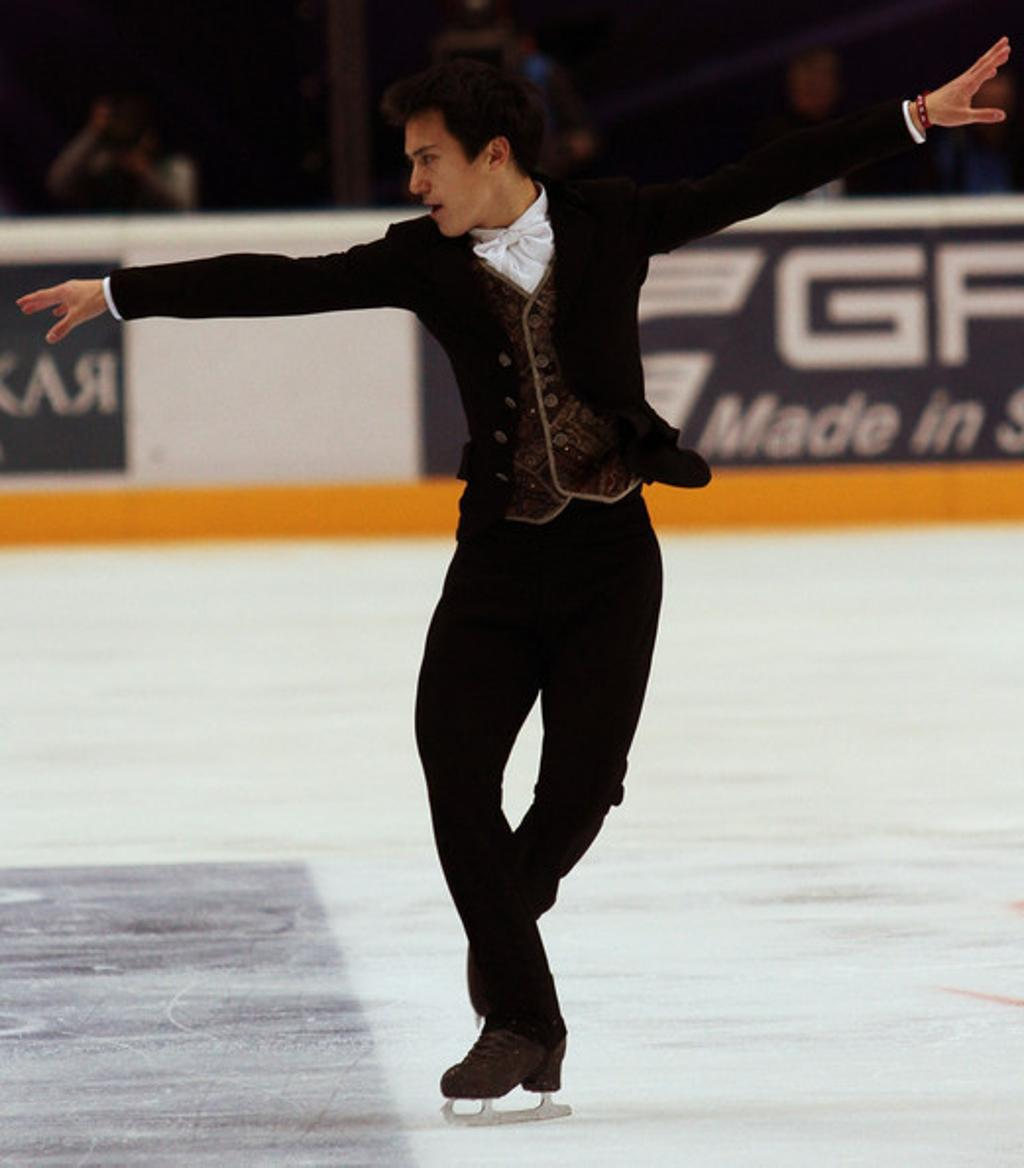face: (407, 110, 494, 235)
